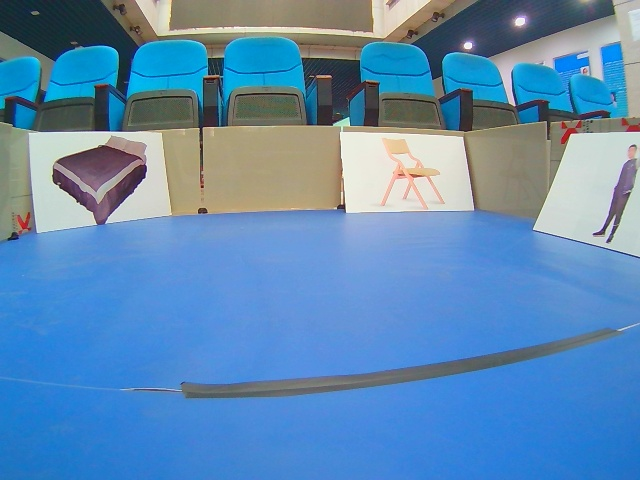bed: (28, 133, 171, 234)
table: (340, 132, 475, 213)
